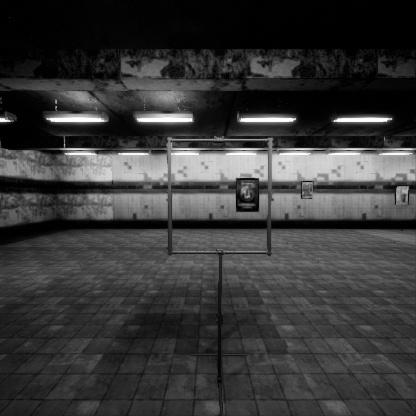gate: (167, 159, 283, 278)
